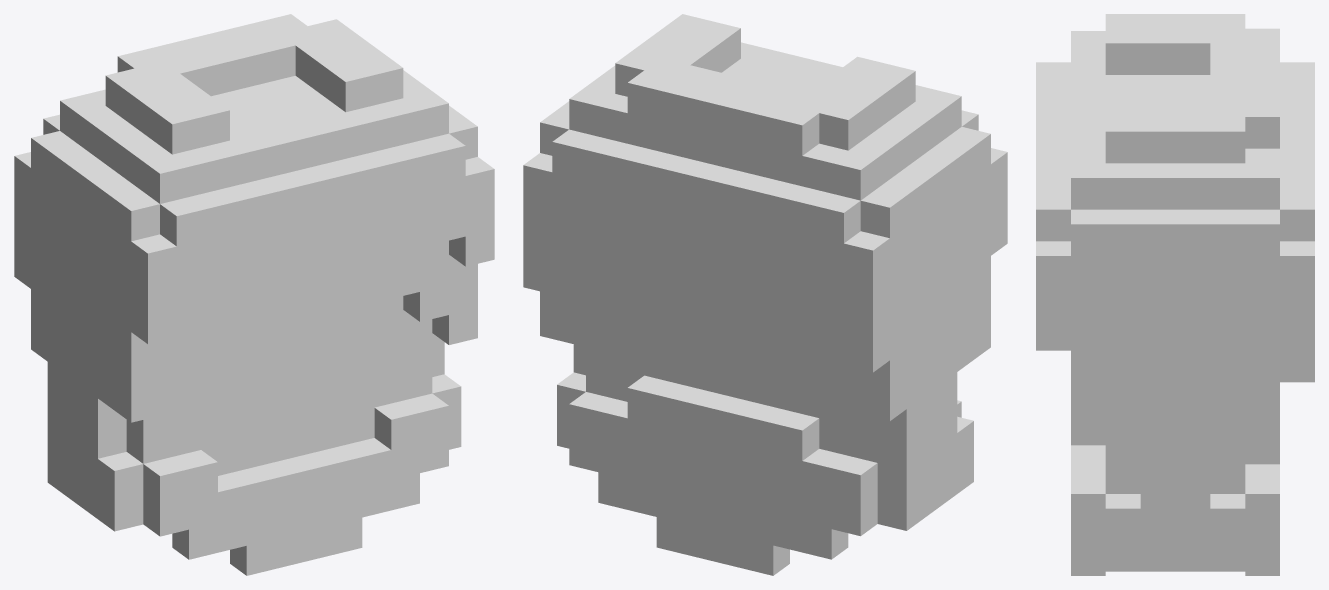
The model's file is body.obj.
3 renders of one model, left to right at view 1: azimuth 30°, elevation 25°; view 2: azimuth 150°, elevation 25°; view 3: azimuth 270°, elevation 25°, orthographic. The views are drawn at different scales.
Size of the model in its own units: 12 by 15 by 8.
Materials: 1 (1 with a texture image).
